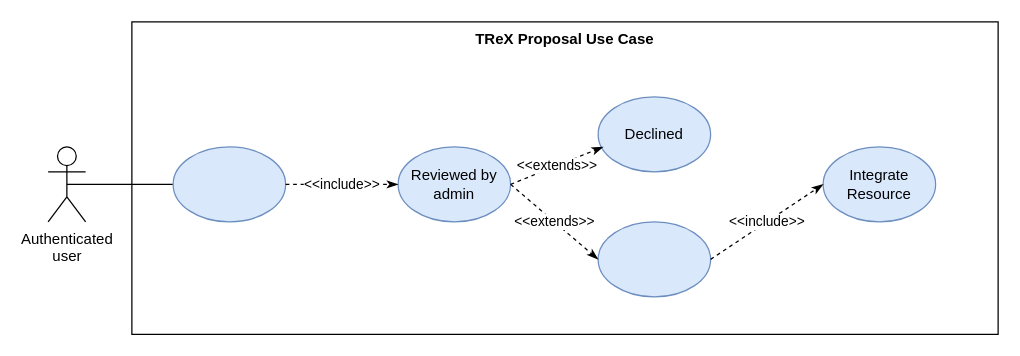
Image size: 1020x356. Some labels were removed from this diagram. The shapes that lost their labels are listed below. From the top down, each one's centre as x and y in pixels, then its label:
At point 229,184: "Propose Article".
At point 654,259: "Accepted".
